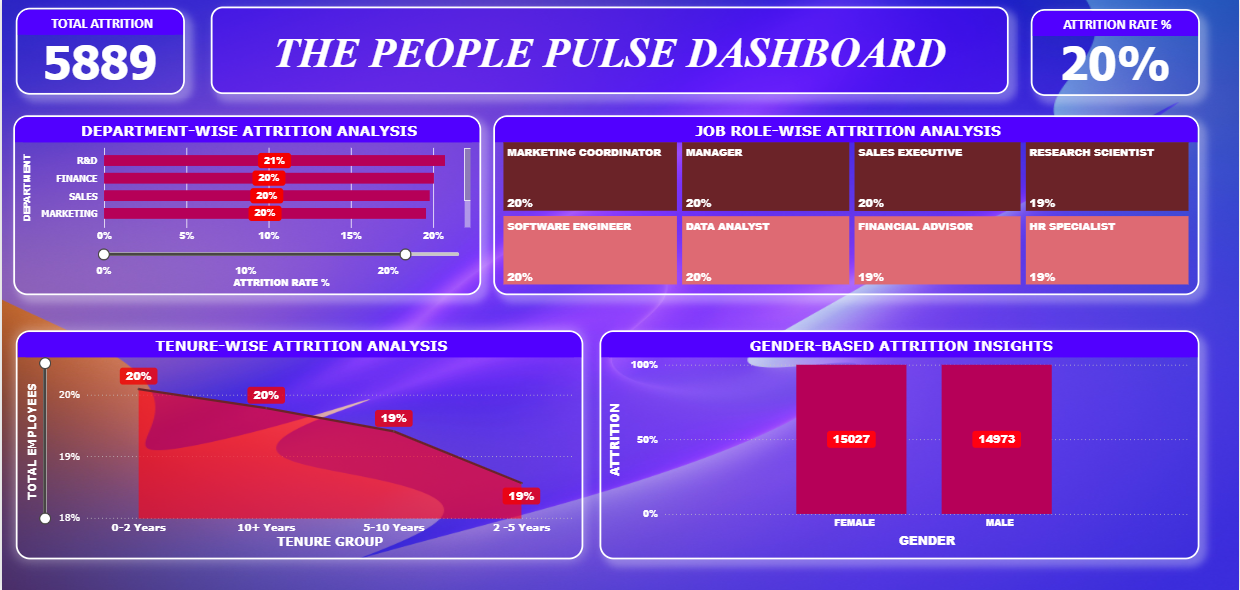

This screenshot's page, from the dashboard's own definition file:
{"tool":"powerbi","page":{"name":"WORKFORCE ATTRITION VS RETENTION","canvas":[1650,790],"ordinal":1},"visuals":[{"type":"card","title":"TOTAL ATTRITION","fields":{"Values":["employee_dataset_30000.Total Attrition"]},"box":[18.6,11.4,225.7,115.7],"z":0},{"type":"card","title":"ATTRITION RATE %","fields":{"Values":["employee_dataset_30000.Attrition Rate"]},"box":[1371.4,12.9,225.7,115.7],"z":1000},{"type":"textbox","box":[278.6,10,1064.3,117.1],"z":2000},{"type":"barChart","title":"DEPARTMENT-WISE ATTRITION ANALYSIS","fields":{"Category":["employee_dataset_30000.Department"],"Y":["employee_dataset_30000.Attrition Rate"]},"box":[15.7,155.7,624.3,240],"z":3000},{"type":"treemap","title":"JOB ROLE-WISE ATTRITION ANALYSIS","fields":{"Group":["employee_dataset_30000.JobRole"],"Values":["employee_dataset_30000.Attrition Rate"]},"box":[655.7,154.3,941.4,240],"z":4000},{"type":"lineChart","title":"TENURE-WISE ATTRITION ANALYSIS","fields":{"Category":["employee_dataset_30000.Tenure Group"],"Y":["employee_dataset_30000.Attrition Rate"]},"box":[18.6,441.4,757.1,305.7],"z":5000},{"type":"hundredPercentStackedColumnChart","title":"GENDER-BASED ATTRITION INSIGHTS","fields":{"Y":["CountNonNull(employee_dataset_30000.Attrition)"],"Category":["employee_dataset_30000.Gender"]},"box":[797.1,441.4,800,305.7],"z":6000}]}

Visuals, with their boxes in screenshot pixels (x1, y1, x2, y2), scaled from the page's 1650x790 canvas onto the 1240x590 screenshot:
"TOTAL ATTRITION" card: bbox=(14, 9, 184, 95)
"ATTRITION RATE %" card: bbox=(1031, 10, 1200, 96)
textbox: bbox=(209, 7, 1009, 95)
"DEPARTMENT-WISE ATTRITION ANALYSIS" barChart: bbox=(12, 116, 481, 296)
"JOB ROLE-WISE ATTRITION ANALYSIS" treemap: bbox=(493, 115, 1200, 294)
"TENURE-WISE ATTRITION ANALYSIS" lineChart: bbox=(14, 330, 583, 558)
"GENDER-BASED ATTRITION INSIGHTS" hundredPercentStackedColumnChart: bbox=(599, 330, 1200, 558)
